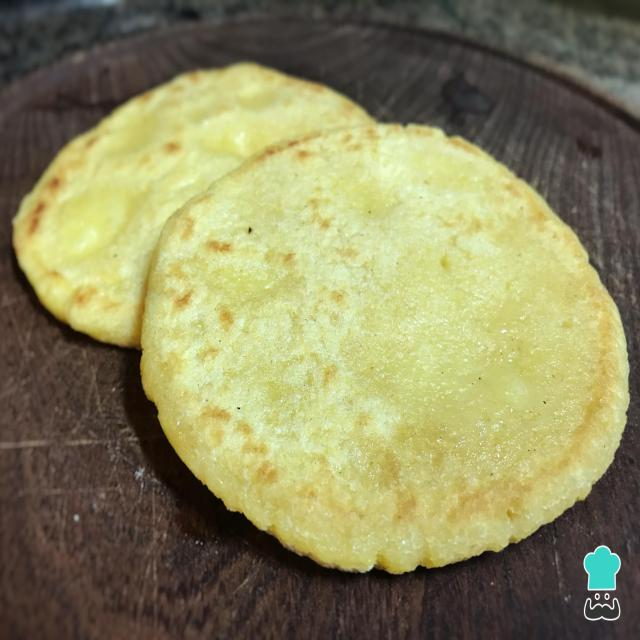arepa: (141, 113, 632, 585)
